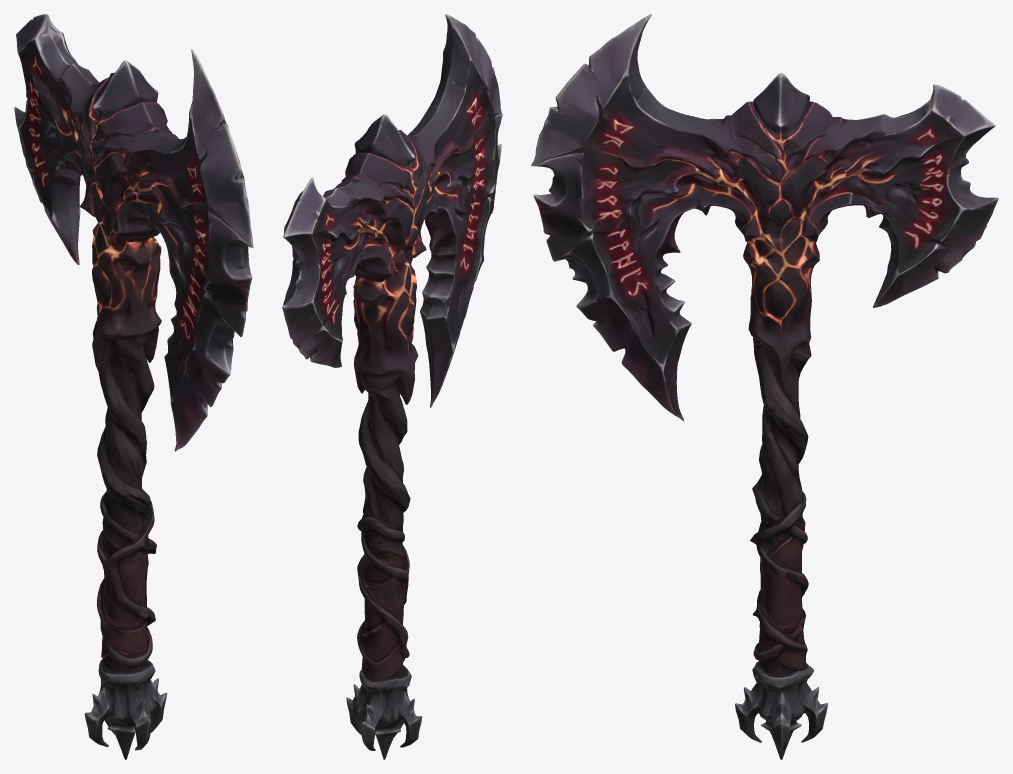
Rendered from sleeper-axe.glb.
The picture shows the model from 3 angles, left to right: view 1: azimuth 30°, elevation 25°; view 2: azimuth 150°, elevation 25°; view 3: azimuth 270°, elevation 25°; orthographic projection. The views are drawn at different scales.
Visible parts, largest first — view 1: tripo_node_99267fc2-c2a0-4462-a281-38c15d64fa70; view 2: tripo_node_99267fc2-c2a0-4462-a281-38c15d64fa70; view 3: tripo_node_99267fc2-c2a0-4462-a281-38c15d64fa70.
Boxes of the visible parts, <box> form: tripo_node_99267fc2-c2a0-4462-a281-38c15d64fa70: <box>14,14,253,759</box>; tripo_node_99267fc2-c2a0-4462-a281-38c15d64fa70: <box>282,14,502,759</box>; tripo_node_99267fc2-c2a0-4462-a281-38c15d64fa70: <box>531,14,998,759</box>.
Bounding box in the file's own units: 0.1133 × 1 × 0.5686.
Materials: 1 (1 with a texture image).
